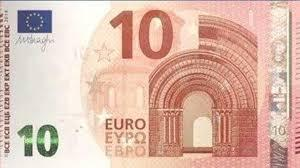euro_banknote: (1, 1, 300, 168)
